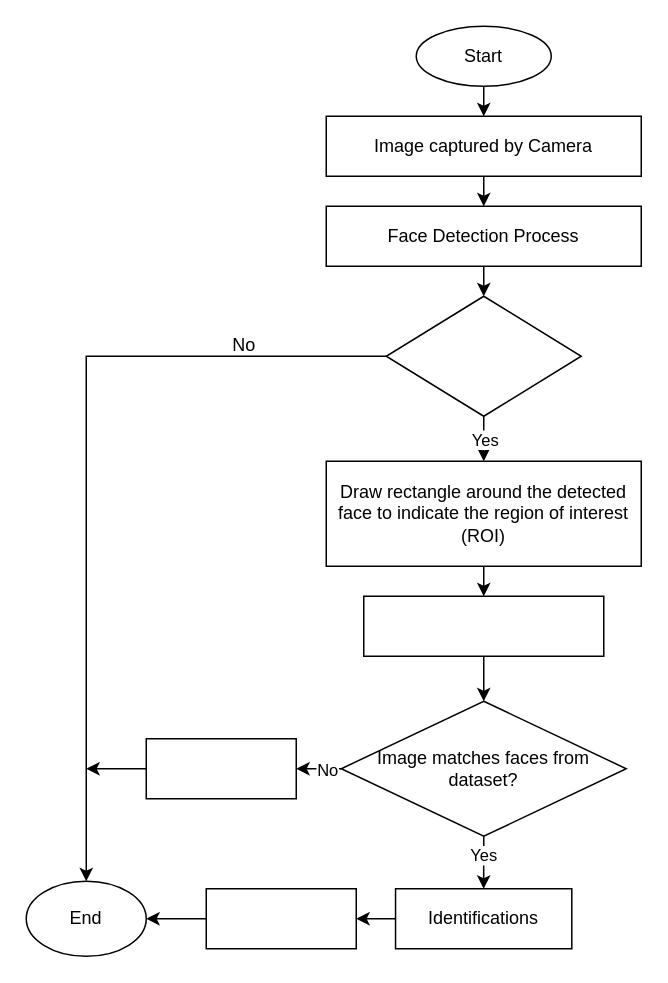
Some shapes in this 668 by 983 pixel diagram are drawn without their labels. The centre of each missing label's shape, as x and y in pixels:
"Extract features" belongs at point 483,625.
"Face Detected?" belongs at point 483,355.
"Unknown face" belongs at point 220,768.
"Verification" belongs at point 280,918.
